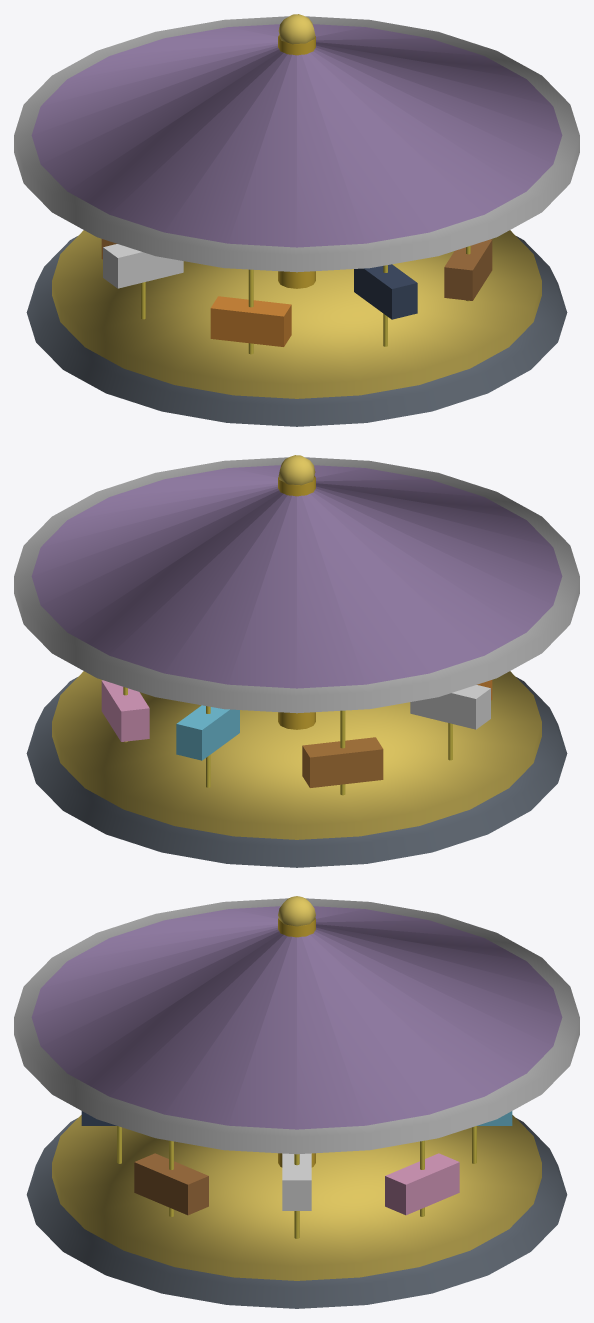
The model's file is carousel.glb.
3 renders of one model, top to bottom at view 1: azimuth 30°, elevation 25°; view 2: azimuth 150°, elevation 25°; view 3: azimuth 270°, elevation 25°, orthographic.
Visible parts, largest first — view 1: Root; view 2: Root; view 3: Root.
Part boxes in pixels (bbox=[...]): Root: bbox=[14, 14, 579, 426]; Root: bbox=[14, 455, 579, 867]; Root: bbox=[14, 896, 579, 1308].
Bounding box in the file's own units: 13.4 × 7.76 × 13.4.
